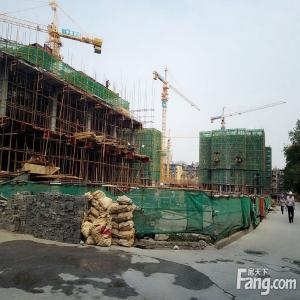white: (289, 192, 294, 200)
